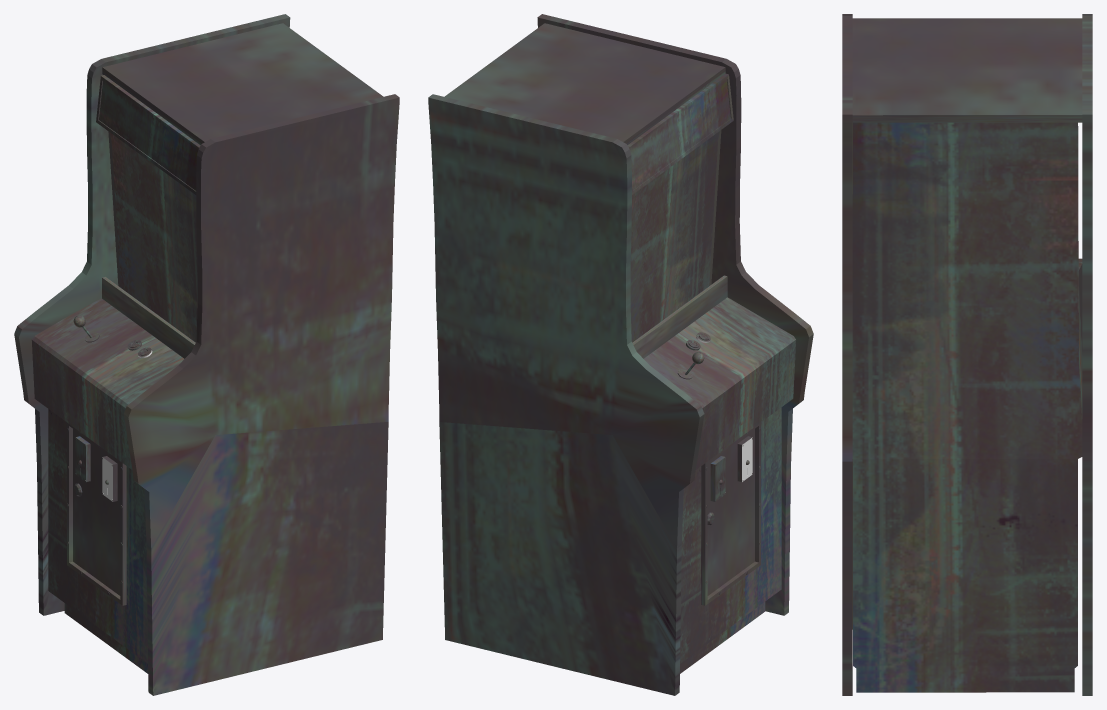
The model's file is arcade.glb.
3 views of the same model, side by side, from view 1: azimuth 30°, elevation 25°; view 2: azimuth 150°, elevation 25°; view 3: azimuth 270°, elevation 25° (orthographic). The views are drawn at different scales.
Parts seen in each view (by area): view 1: pCube1.003; view 2: pCube1.003; view 3: pCube1.003.
Boxes of the visible parts, box(x1,y1,x2,y2) form: pCube1.003: box(14, 14, 399, 695); pCube1.003: box(428, 14, 813, 695); pCube1.003: box(842, 14, 1092, 695).
Size of the model in its own units: 1.14 by 2.15 by 0.8278.
Materials: 1 (1 with a texture image).
